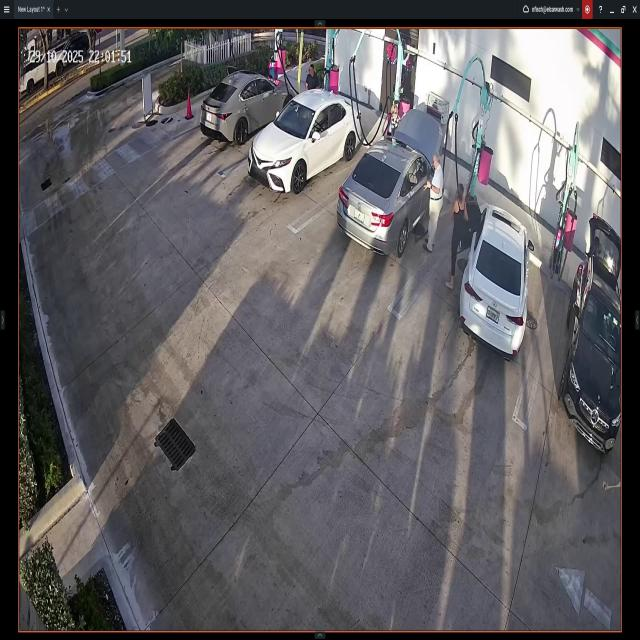Car: (339, 112, 438, 258), (563, 222, 620, 454), (250, 90, 361, 196), (459, 205, 532, 358), (201, 70, 296, 143)
